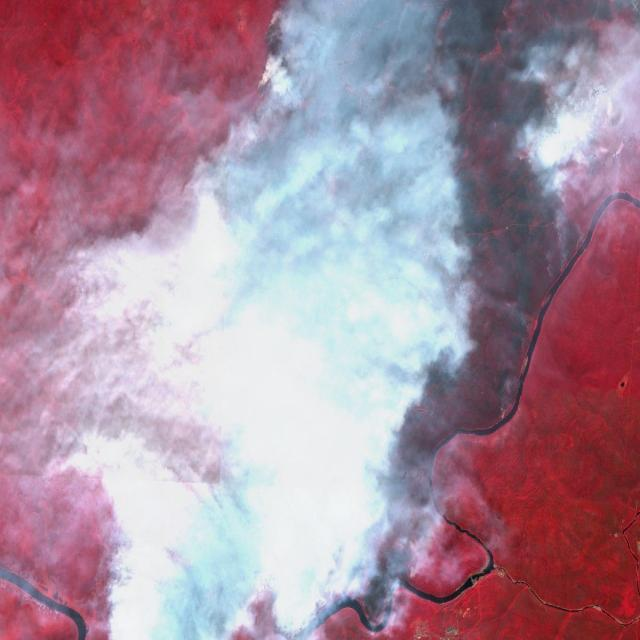fire: (114, 160, 449, 640), (220, 0, 313, 158)
